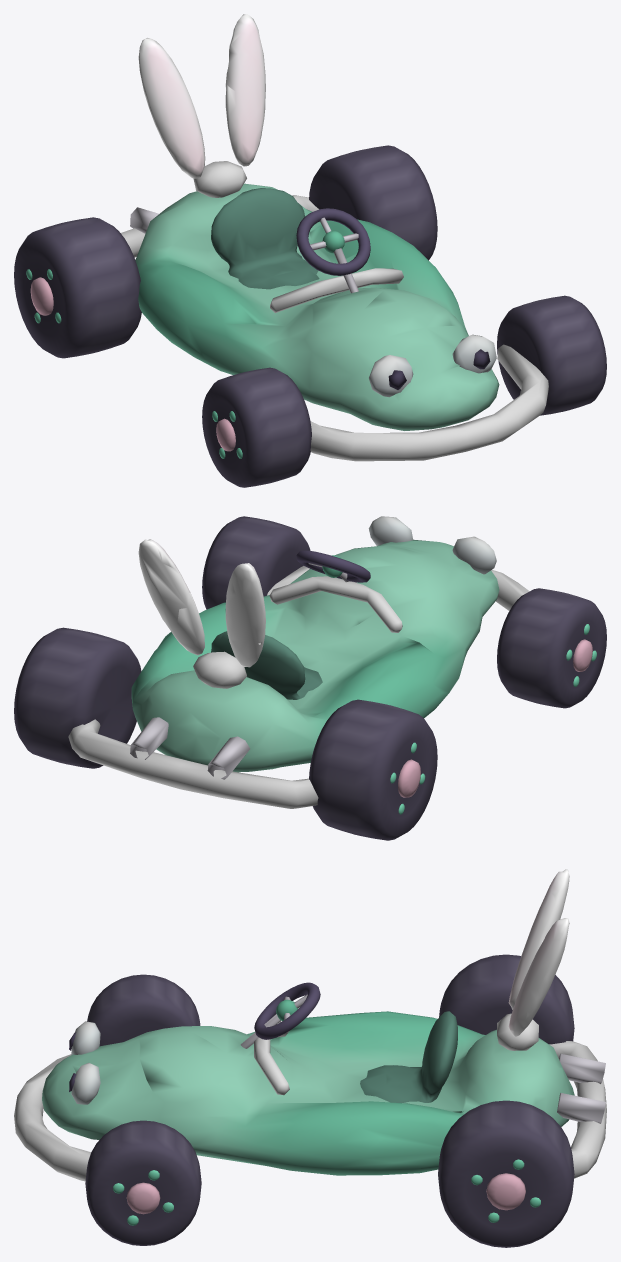
File: veh_kart_mint.glb
3 views of the same model, one above another, from view 1: azimuth 30°, elevation 25°; view 2: azimuth 150°, elevation 25°; view 3: azimuth 270°, elevation 25° (orthographic).
Parts seen in each view (by area): view 1: SM_veh_kart_mint_body_gloss, SM_veh_kart_mint_body, SM_veh_kart_mint_wheel_rr, SM_veh_kart_mint_wheel_fr, SM_veh_kart_mint_wheel_fl, SM_veh_kart_mint_wheel_rl, SM_veh_kart_mint_steer, SM_veh_kart_mint_wheel_rr_gloss, SM_veh_kart_mint_steer_gloss; view 2: SM_veh_kart_mint_body_gloss, SM_veh_kart_mint_wheel_rr, SM_veh_kart_mint_wheel_rl, SM_veh_kart_mint_body, SM_veh_kart_mint_wheel_fr, SM_veh_kart_mint_wheel_fl, SM_veh_kart_mint_steer, SM_veh_kart_mint_wheel_rr_gloss, SM_veh_kart_mint_wheel_fr_gloss; view 3: SM_veh_kart_mint_body_gloss, SM_veh_kart_mint_wheel_rl, SM_veh_kart_mint_wheel_fl, SM_veh_kart_mint_body, SM_veh_kart_mint_wheel_rr, SM_veh_kart_mint_wheel_fr, SM_veh_kart_mint_steer, SM_veh_kart_mint_wheel_rl_gloss, SM_veh_kart_mint_wheel_fl_gloss.
Boxes of the visible parts, bbox=[...] form: SM_veh_kart_mint_body_gloss: bbox=[121, 161, 548, 461]; SM_veh_kart_mint_body: bbox=[138, 14, 319, 289]; SM_veh_kart_mint_wheel_rr: bbox=[14, 217, 141, 358]; SM_veh_kart_mint_wheel_fr: bbox=[202, 367, 311, 487]; SM_veh_kart_mint_wheel_fl: bbox=[497, 295, 606, 415]; SM_veh_kart_mint_wheel_rl: bbox=[309, 145, 437, 260]; SM_veh_kart_mint_steer: bbox=[296, 208, 370, 275]; SM_veh_kart_mint_wheel_rr_gloss: bbox=[30, 277, 53, 315]; SM_veh_kart_mint_steer_gloss: bbox=[310, 217, 358, 253]; SM_veh_kart_mint_body_gloss: bbox=[68, 516, 529, 808]; SM_veh_kart_mint_wheel_rr: bbox=[309, 699, 437, 840]; SM_veh_kart_mint_wheel_rl: bbox=[14, 627, 141, 768]; SM_veh_kart_mint_body: bbox=[138, 539, 322, 699]; SM_veh_kart_mint_wheel_fr: bbox=[497, 588, 606, 708]; SM_veh_kart_mint_wheel_fl: bbox=[202, 516, 310, 609]; SM_veh_kart_mint_steer: bbox=[296, 550, 370, 582]; SM_veh_kart_mint_wheel_rr_gloss: bbox=[398, 759, 420, 797]; SM_veh_kart_mint_wheel_fr_gloss: bbox=[573, 639, 592, 671]; SM_veh_kart_mint_body_gloss: bbox=[14, 1011, 606, 1181]; SM_veh_kart_mint_wheel_rl: bbox=[438, 1100, 574, 1247]; SM_veh_kart_mint_wheel_fl: bbox=[85, 1120, 201, 1245]; SM_veh_kart_mint_body: bbox=[360, 869, 569, 1102]; SM_veh_kart_mint_wheel_rr: bbox=[439, 954, 574, 1044]; SM_veh_kart_mint_wheel_fr: bbox=[87, 974, 200, 1046]; SM_veh_kart_mint_steer: bbox=[254, 982, 320, 1039]; SM_veh_kart_mint_wheel_rl_gloss: bbox=[486, 1173, 525, 1210]; SM_veh_kart_mint_wheel_fl_gloss: bbox=[126, 1182, 160, 1214].
Bounding box in the file's own units: 1.54 × 1.03 × 2.06.
